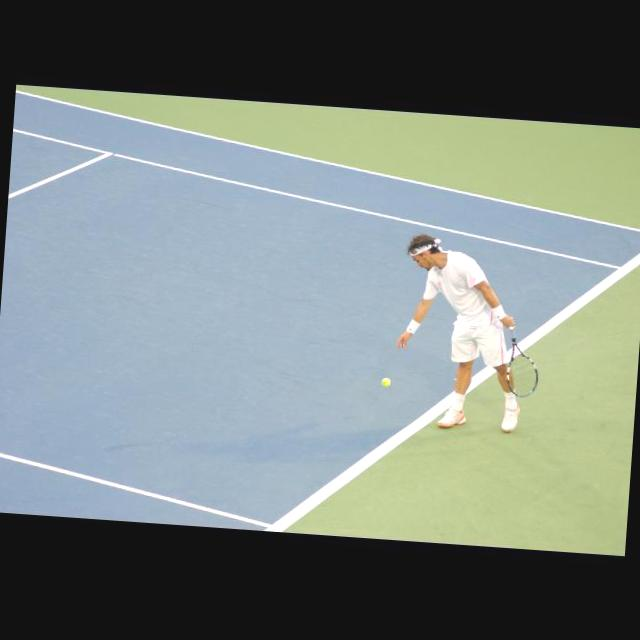Tennis Ball: (382, 375, 391, 386)
